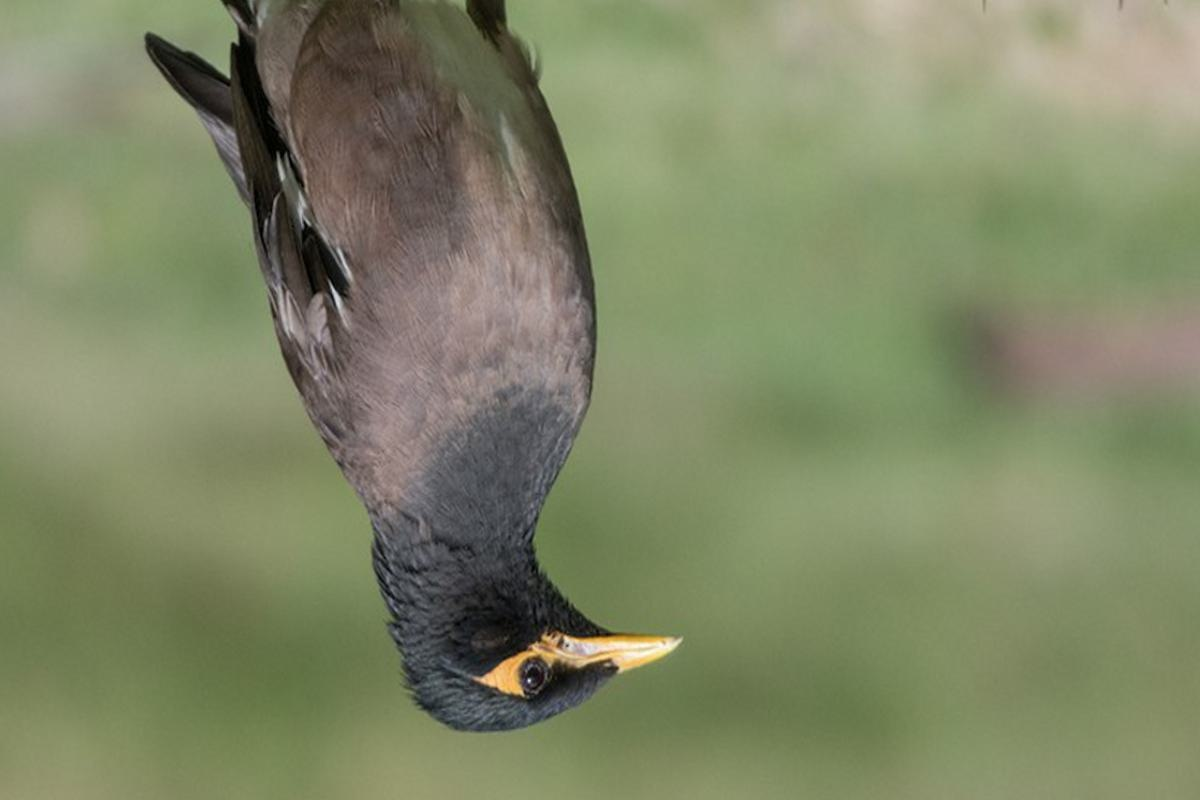myna: (108, 1, 708, 743)
